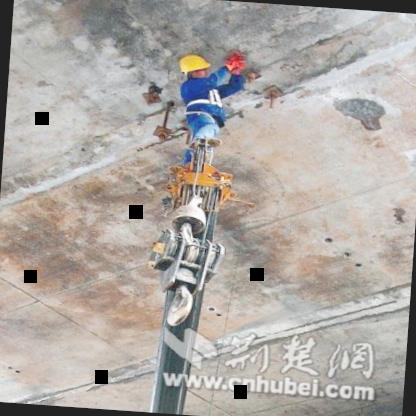helmet: (175, 51, 213, 83)
